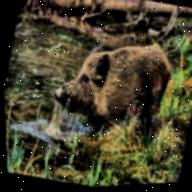boar: (35, 10, 188, 165)
